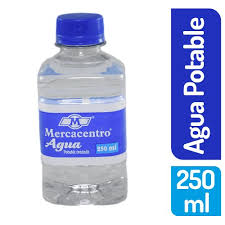Botella: (38, 13, 125, 204)
